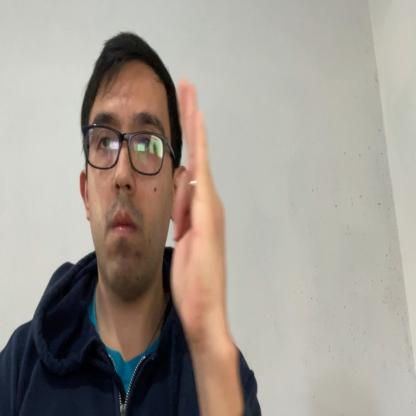F: (170, 80, 226, 340)
